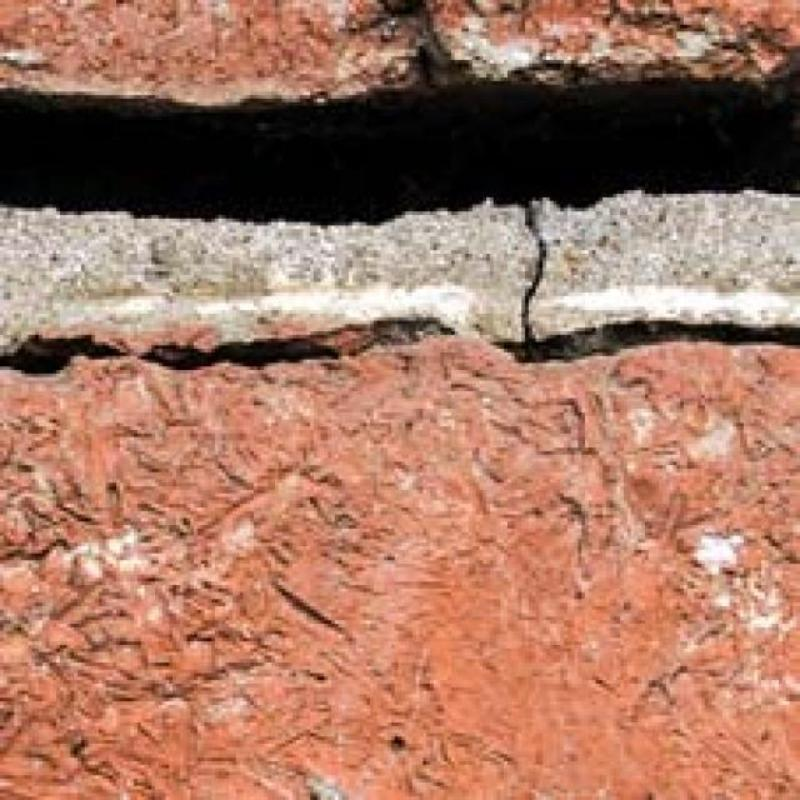crack: (0, 63, 800, 223), (495, 208, 800, 362), (141, 316, 455, 370), (0, 334, 127, 374)
